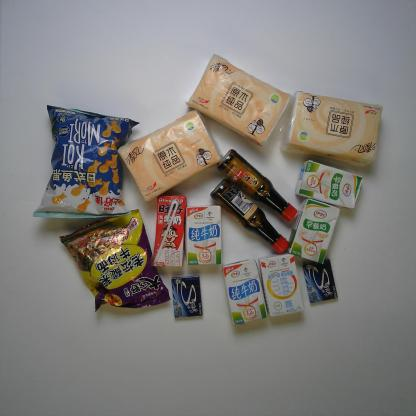Gum: (302, 259, 338, 303), (171, 275, 202, 318)
Instant Noodles: (59, 207, 172, 315)
Milk: (284, 197, 342, 269), (294, 158, 362, 210), (221, 258, 268, 327), (259, 252, 306, 316), (152, 194, 187, 269), (183, 205, 223, 267)
Puffed Food: (32, 103, 141, 221)
Seasoner: (209, 177, 290, 255), (215, 149, 298, 223)
Tissue: (115, 108, 225, 203), (184, 53, 293, 148), (280, 89, 384, 169)
